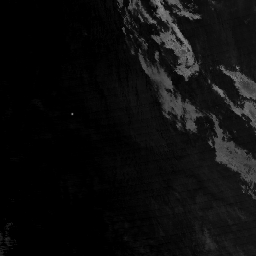Target: (70, 111, 75, 116)
